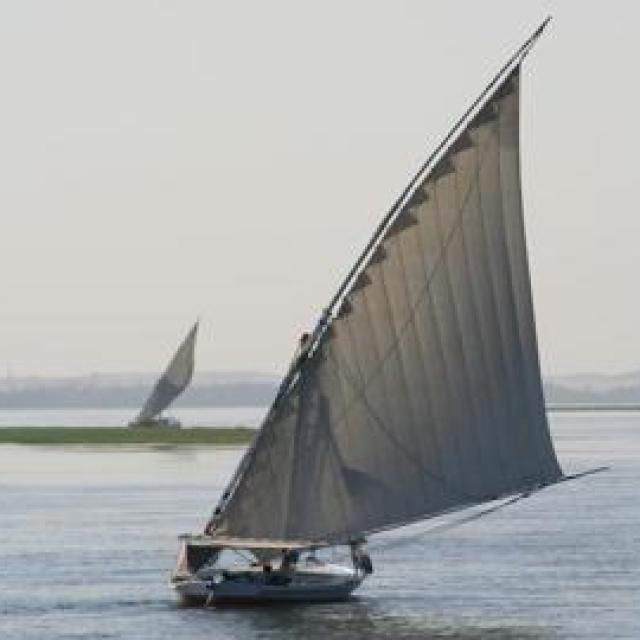sailboat: (164, 9, 586, 610), (104, 306, 214, 434)
